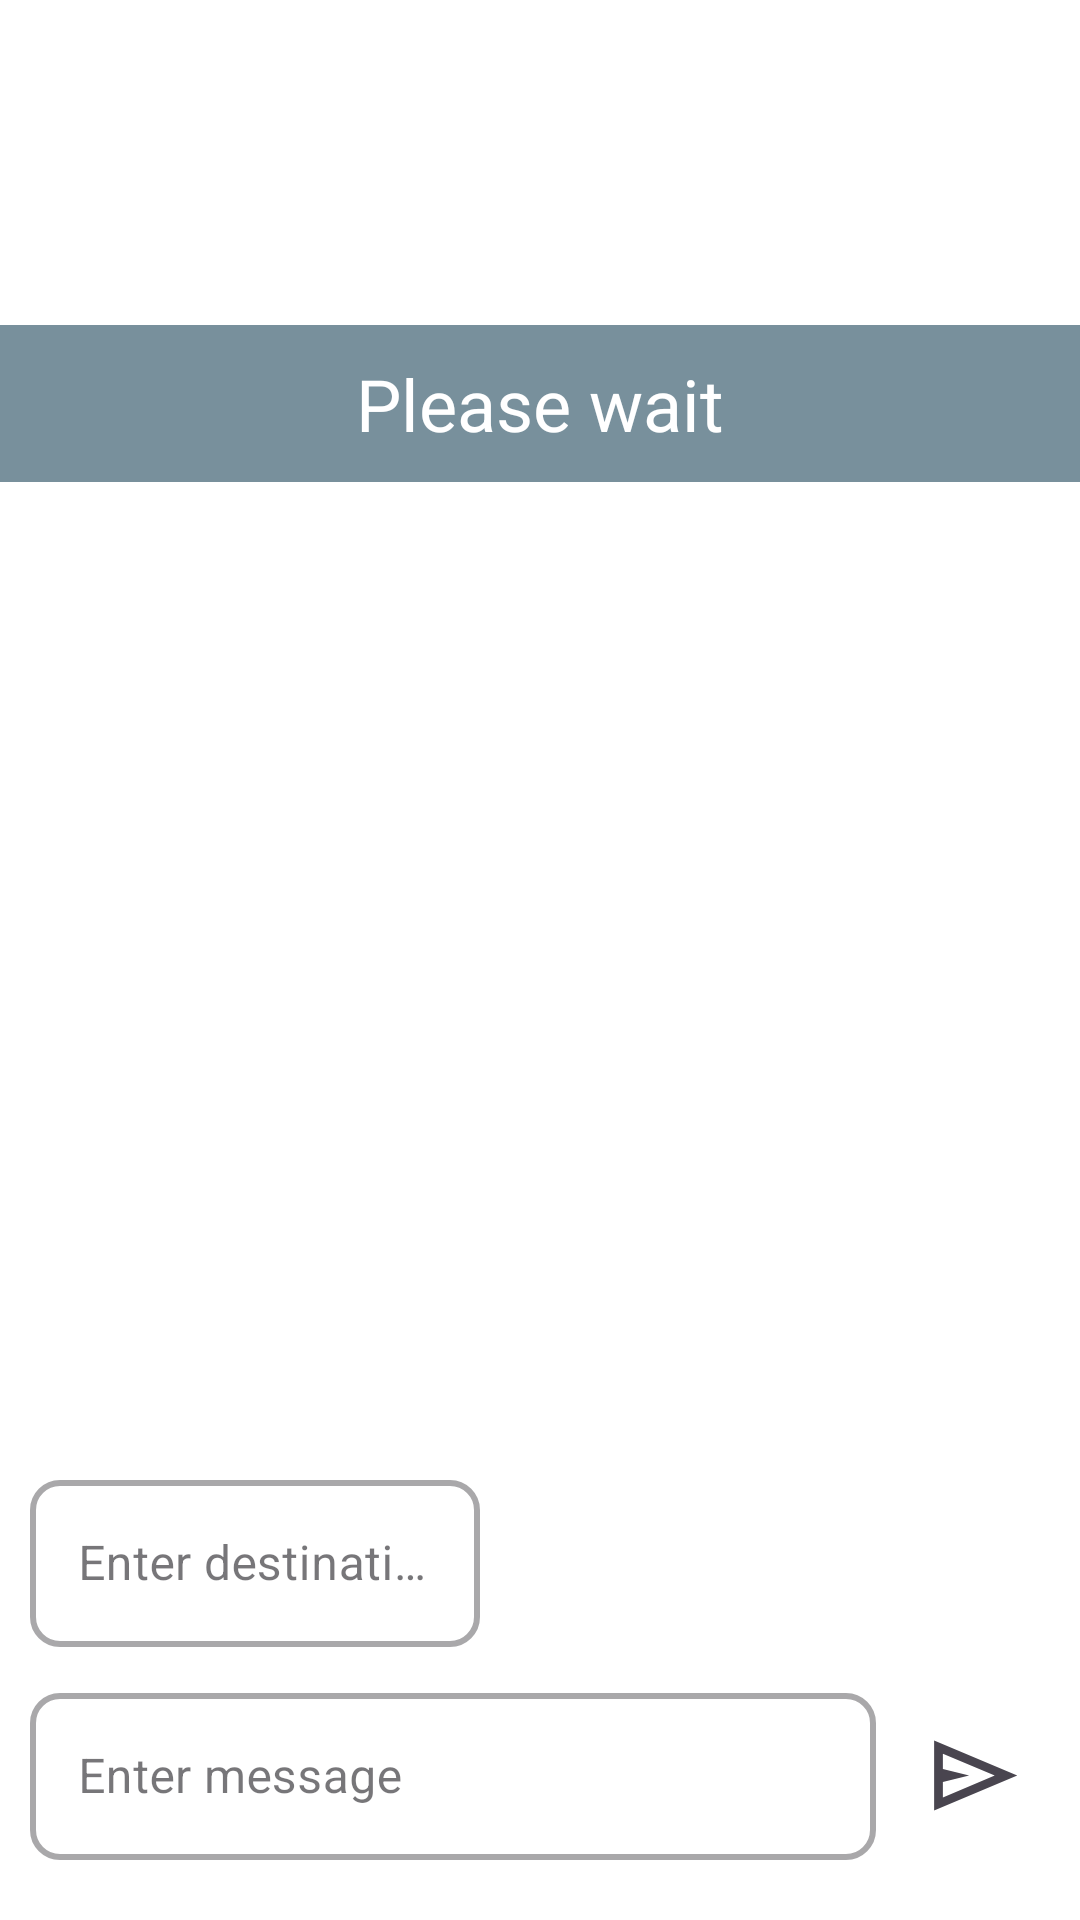

Icon click points for this 1080x1920 phone screenshot, format (x=x, y=y):
send: (x=975, y=1775)
